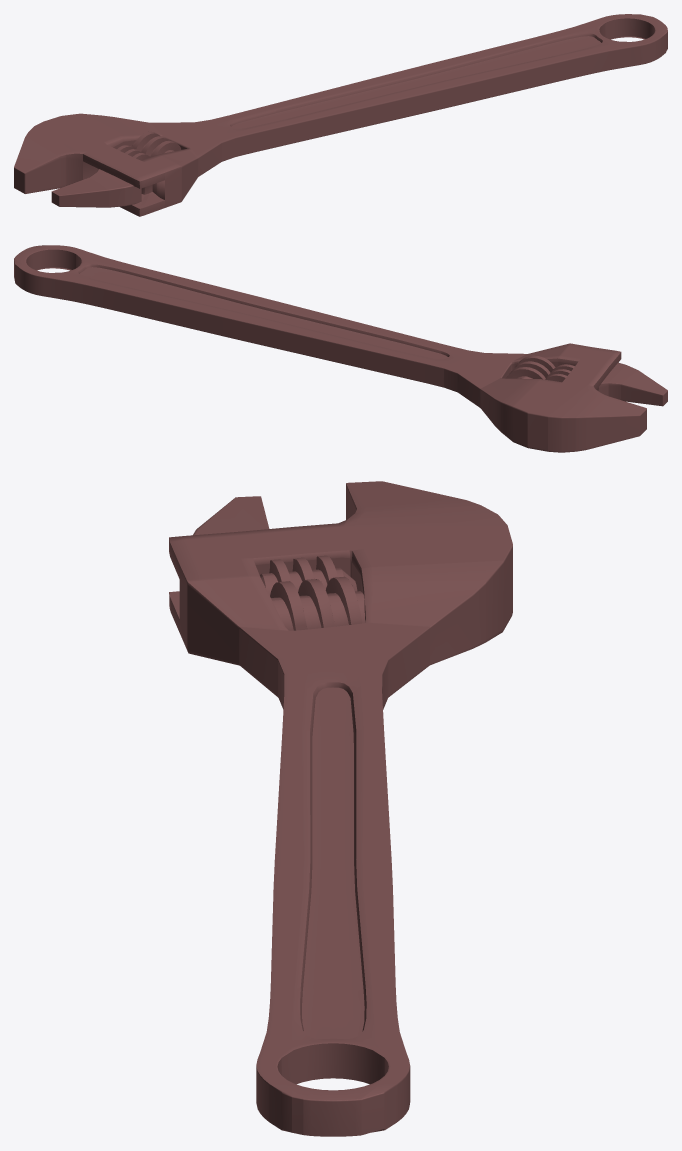
Rendered from wrench_shaded_v001.fbx.
The picture shows the model from 3 angles, top to bottom: view 1: azimuth 30°, elevation 25°; view 2: azimuth 150°, elevation 25°; view 3: azimuth 270°, elevation 25°; orthographic projection. The views are drawn at different scales.
Parts seen in each view (by area): view 1: wrench_geo; view 2: wrench_geo; view 3: wrench_geo.
Part boxes in pixels (bbox=[...]): wrench_geo: bbox=[14, 14, 667, 216]; wrench_geo: bbox=[14, 245, 667, 452]; wrench_geo: bbox=[169, 481, 512, 1136].
Bounding box in the file's own units: 36.74 × 2.16 × 8.65.
